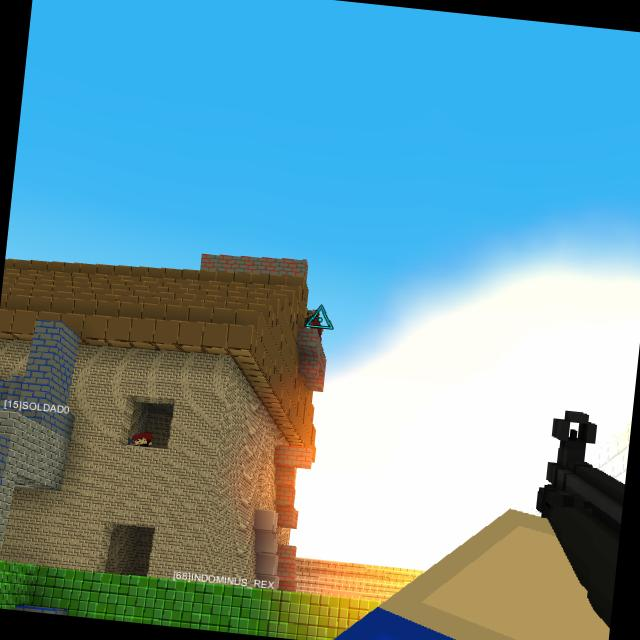enemy: (304, 308, 325, 342), (130, 429, 152, 446)
